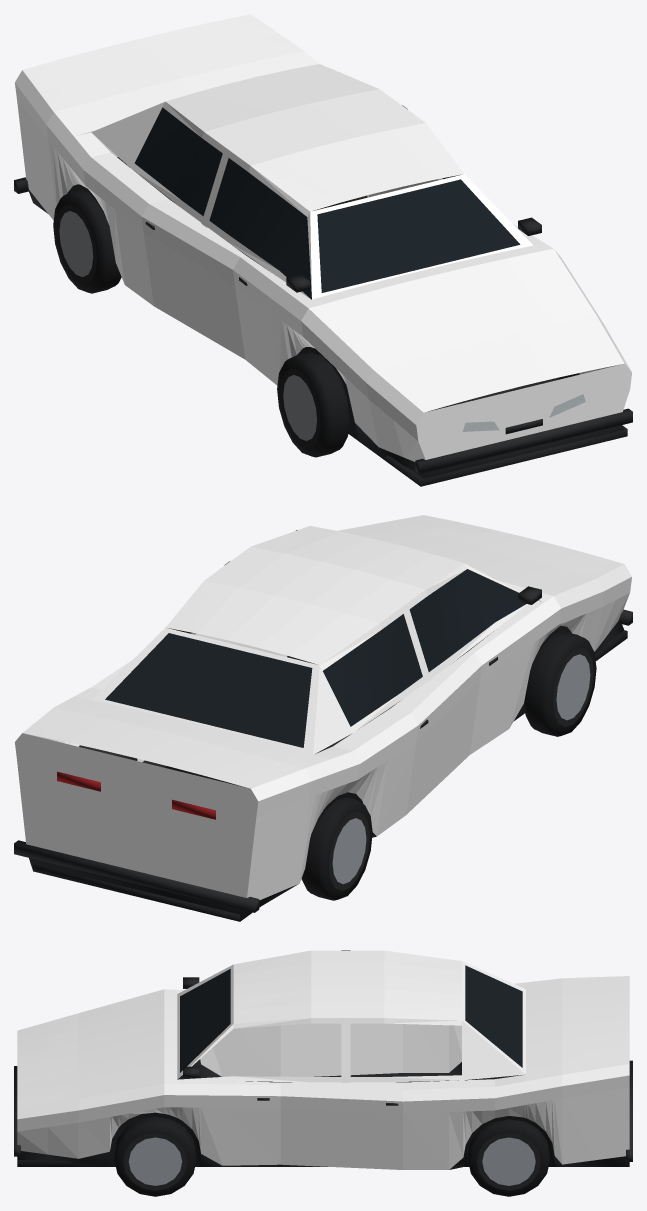
The model's file is hayase_obelisco.glb.
3 renders of one model, top to bottom at view 1: azimuth 30°, elevation 25°; view 2: azimuth 150°, elevation 25°; view 3: azimuth 270°, elevation 25°, orthographic. The views are drawn at different scales.
Parts seen in each view (by area): view 1: Body_Paint, Body_Details, Mount_FrontLeft_Wheel_Details, Mount_RearLeft_Wheel_Details; view 2: Body_Paint, Body_Details, Mount_FrontLeft_Wheel_Details, Mount_RearLeft_Wheel_Details; view 3: Body_Paint, Body_Details, Mount_FrontRight_Wheel_Details, Mount_RearRight_Wheel_Details.
Boxes of the visible parts, left/top/right/bottom form: Body_Paint: left=15, top=14, right=631, bottom=461; Body_Details: left=14, top=107, right=632, bottom=486; Mount_FrontLeft_Wheel_Details: left=277, top=352, right=349, bottom=457; Mount_RearLeft_Wheel_Details: left=53, top=189, right=121, bottom=293; Body_Paint: left=15, top=515, right=631, bottom=900; Body_Details: left=14, top=530, right=632, bottom=921; Mount_FrontLeft_Wheel_Details: left=524, top=631, right=596, bottom=736; Mount_RearLeft_Wheel_Details: left=301, top=797, right=372, bottom=900; Body_Paint: left=17, top=950, right=629, bottom=1169; Body_Details: left=14, top=965, right=632, bottom=1169; Mount_FrontRight_Wheel_Details: left=114, top=1116, right=196, bottom=1196; Mount_RearRight_Wheel_Details: left=467, top=1119, right=550, bottom=1196.
Bounding box in the file's own units: 2.02 × 1.45 × 4.95.
Materials: 2 (1 with a texture image).
